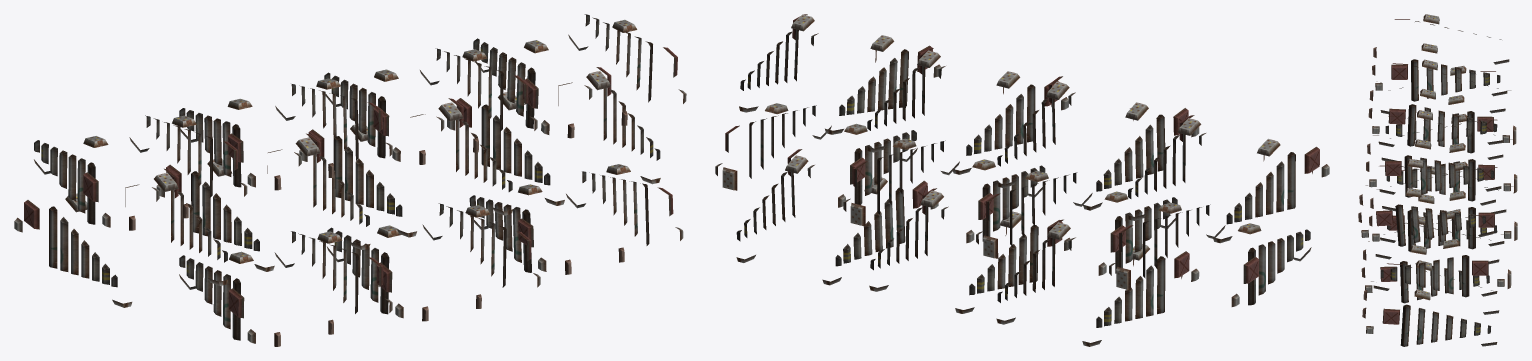
File: prop_static_tan_container_01_01.glb
3 renders of one model, left to right at view 1: azimuth 30°, elevation 25°; view 2: azimuth 150°, elevation 25°; view 3: azimuth 270°, elevation 25°, orthographic. The views are drawn at different scales.
Visible parts, largest first — view 1: tan_container_01_01_LOD0; view 2: tan_container_01_01_LOD0; view 3: tan_container_01_01_LOD0.
Boxes of the visible parts, <box> form: tan_container_01_01_LOD0: <box>14,14,686,346</box>; tan_container_01_01_LOD0: <box>715,14,1329,346</box>; tan_container_01_01_LOD0: <box>1358,14,1517,346</box>.
Size of what is drawn, in the model's own units: 9.56 by 3.72 by 3.34.
1 material, 1 textured.
